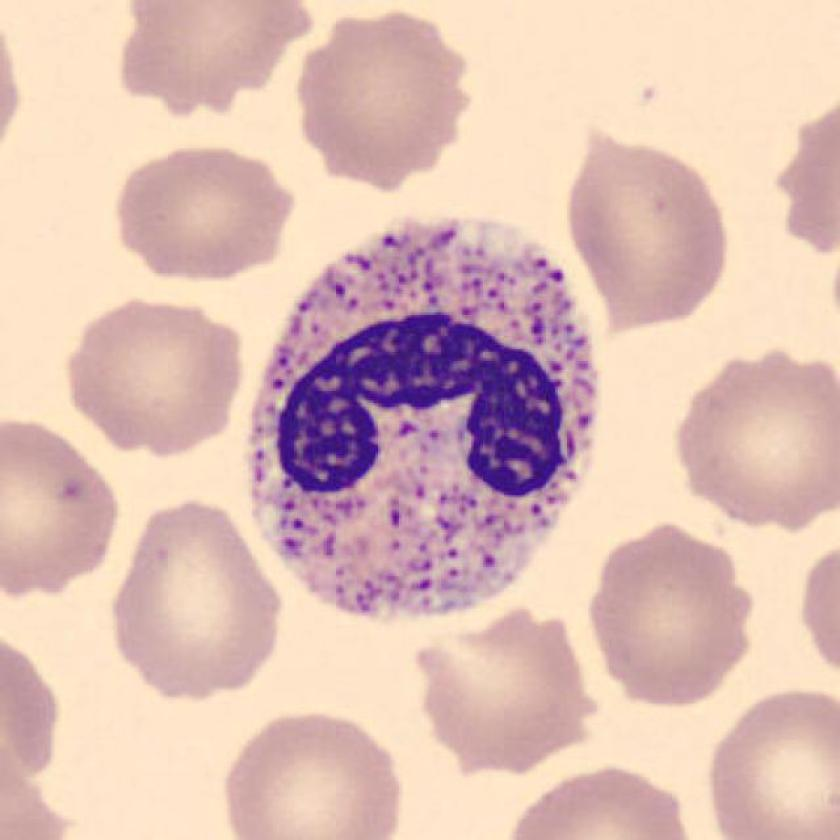neutrophil: (251, 215, 599, 614)
